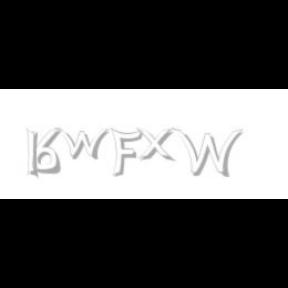6: (32, 128, 62, 176)
F: (110, 128, 142, 178)
W: (171, 128, 243, 178)
l: (26, 128, 42, 180)
w: (55, 128, 114, 160)
x: (136, 128, 178, 162)
